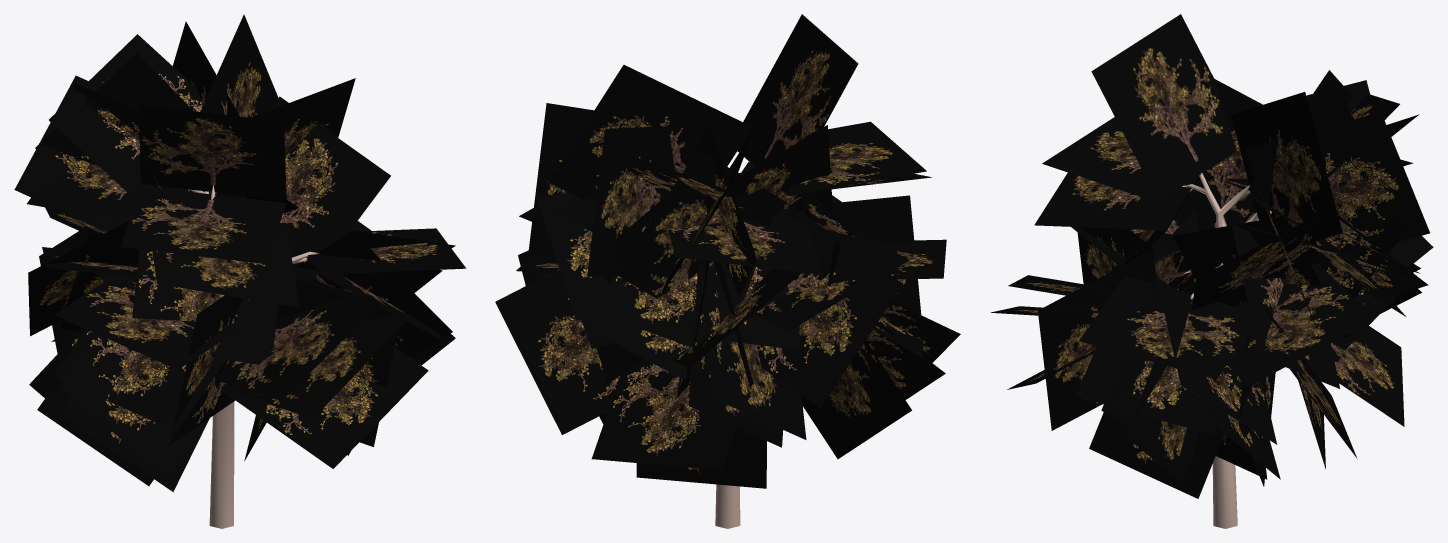
File: tree24.glb
The picture shows the model from 3 angles, left to right: view 1: azimuth 30°, elevation 25°; view 2: azimuth 150°, elevation 25°; view 3: azimuth 270°, elevation 25°; orthographic projection. The views are drawn at different scales.
Size of the model in its own units: 6.41 by 6.96 by 6.07.
2 materials, 1 textured.
